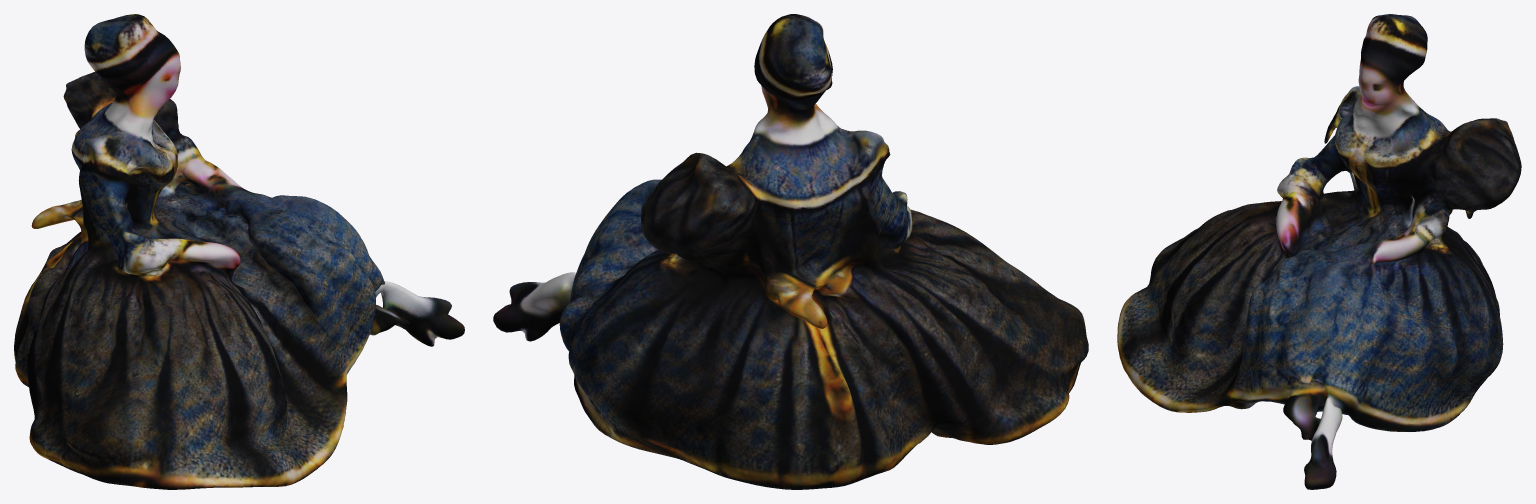
The model's file is 3c55d5476e45_noble_parisian_wome.fbx.
3 renders of one model, left to right at view 1: azimuth 30°, elevation 25°; view 2: azimuth 150°, elevation 25°; view 3: azimuth 270°, elevation 25°, orthographic. The views are drawn at different scales.
Visible parts, largest first — view 1: high_poly; view 2: high_poly; view 3: high_poly.
Boxes of the visible parts, bbox=[...] form: high_poly: bbox=[14, 14, 464, 489]; high_poly: bbox=[493, 14, 1088, 489]; high_poly: bbox=[1117, 14, 1521, 489].
Size of the model in its own units: 100 by 80.6 by 81.91.
